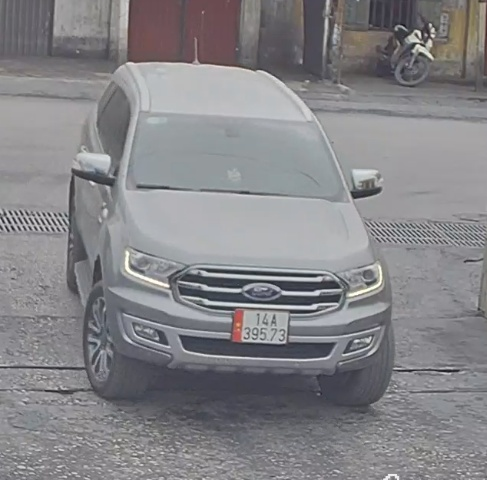vehicle plate: (226, 301, 296, 349)
